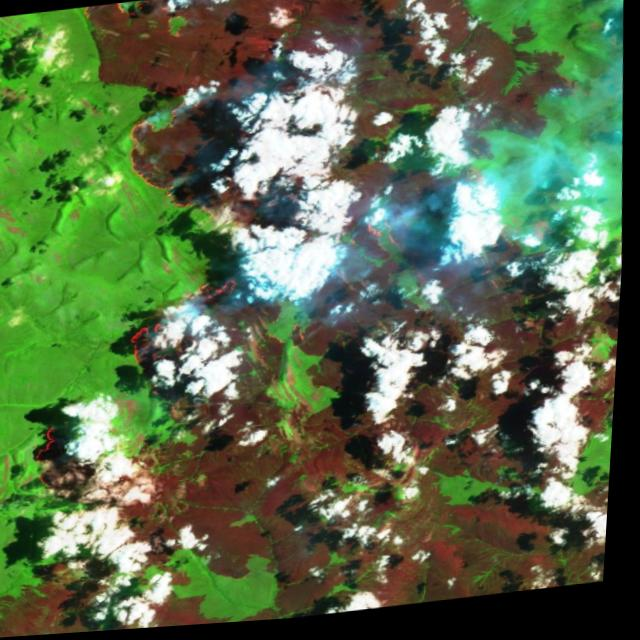fire: (115, 85, 276, 251), (124, 276, 256, 403), (340, 208, 432, 268), (29, 420, 86, 496), (73, 0, 178, 29), (265, 315, 323, 359), (418, 0, 510, 10)
